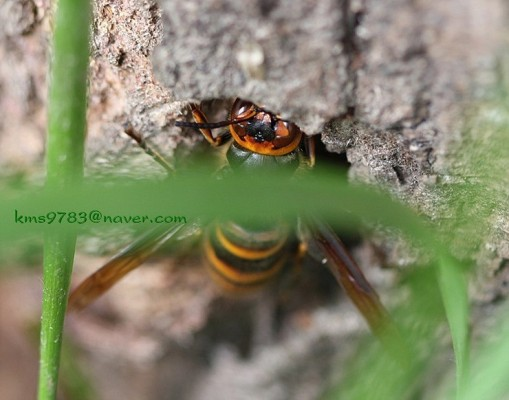asian_giant_hornet: (173, 93, 320, 305)
